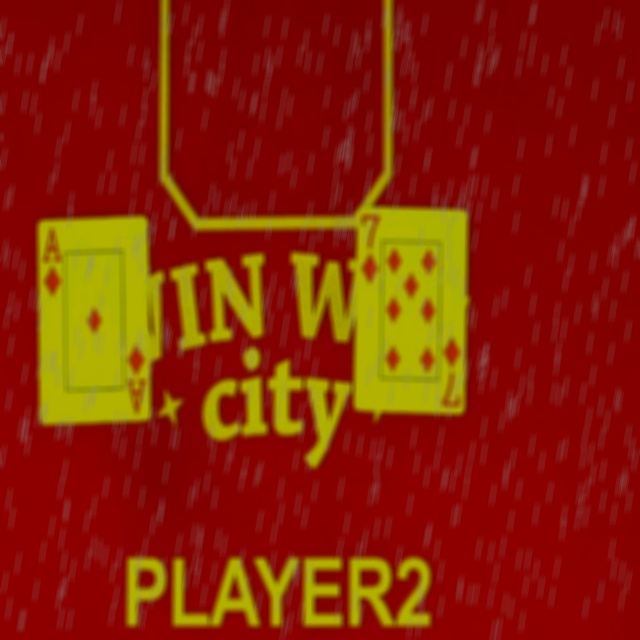7D: (441, 333, 466, 410), (358, 208, 382, 286)
AD: (123, 336, 151, 415), (38, 224, 64, 300)
